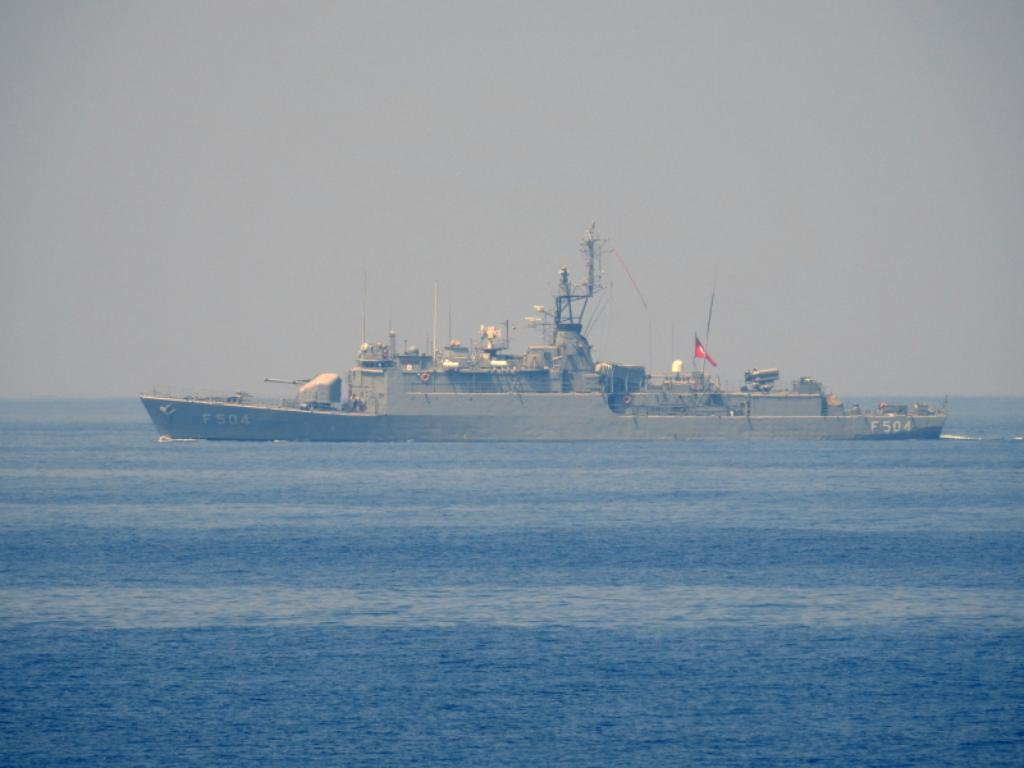Warship: (133, 213, 953, 449)
